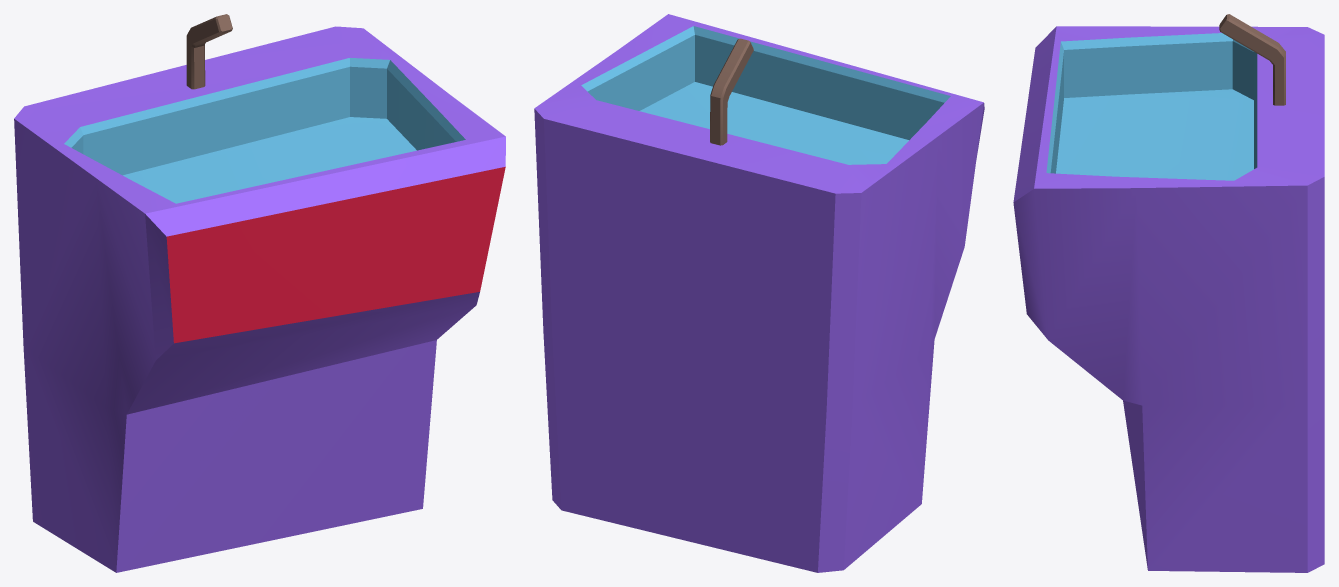
File: Kitchen_Sink.fbx
The picture shows the model from 3 angles, left to right: view 1: azimuth 30°, elevation 25°; view 2: azimuth 150°, elevation 25°; view 3: azimuth 270°, elevation 25°; orthographic projection. The views are drawn at different scales.
Parts seen in each view (by area): view 1: Sink; view 2: Sink; view 3: Sink.
Boxes of the visible parts, x1,y1,x2,y2 form: Sink: (14,14,505,572); Sink: (534,14,984,572); Sink: (1013,14,1324,572).
Bounding box in the file's own units: 102 × 140 × 82.16.
1 material, 1 textured.
